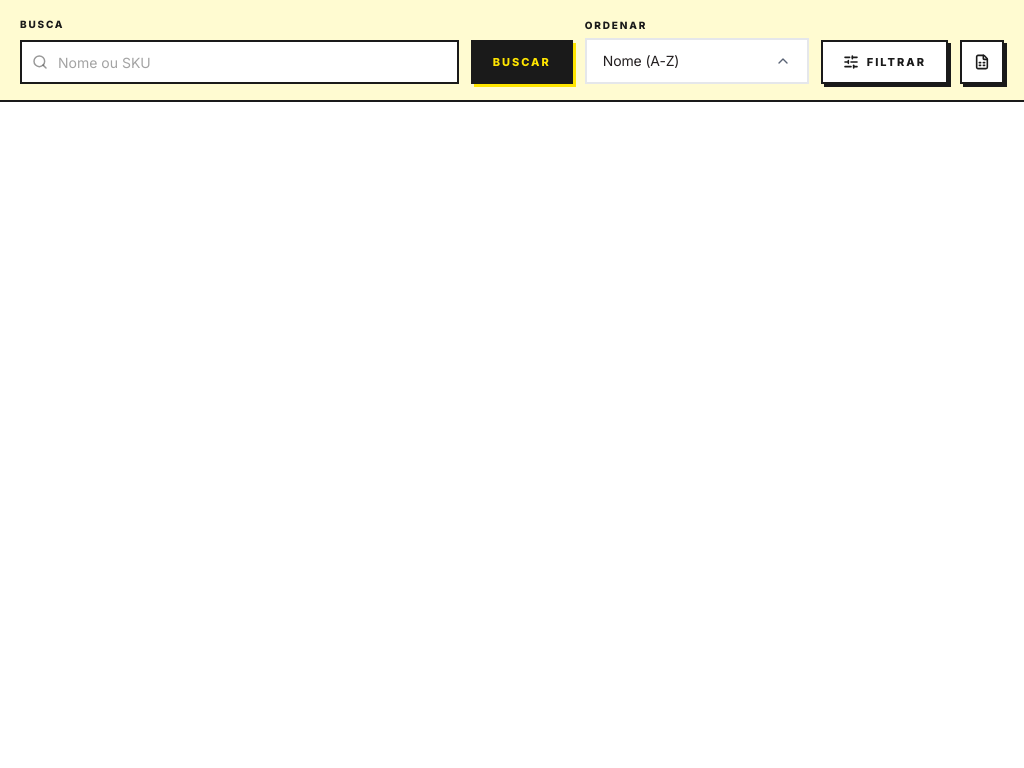
Test: StockToolbar › abre a planilha com exportar e importar a partir do botão da barra
Click the button named "Planilha de estoque: exportar ou importar". click: {"x": 982, "y": 62}
box: [960,40,1004,84]
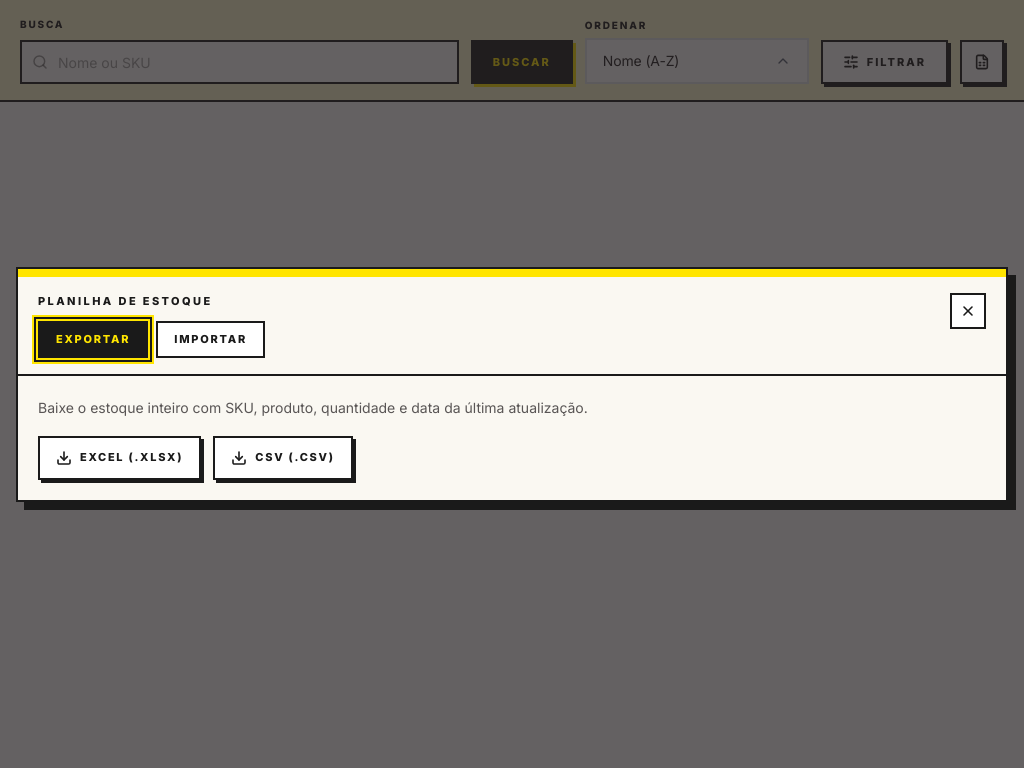
Expected: the tab "Importar" is shown, [156,321,265,358]
